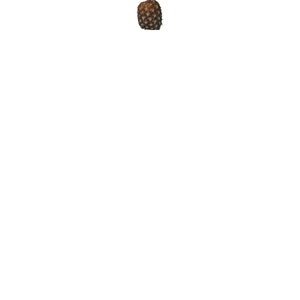abacaxi: (135, 1, 163, 32)
